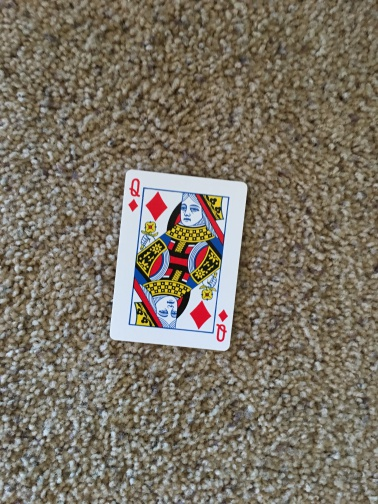queen: (109, 167, 249, 349)
